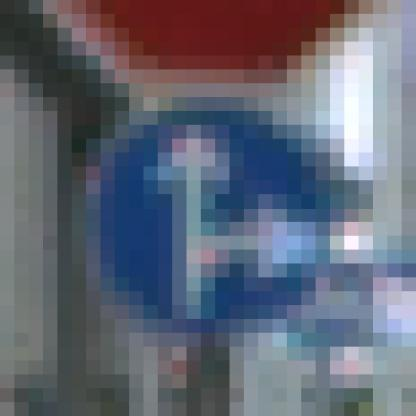Straight or Right: (73, 84, 331, 348)
